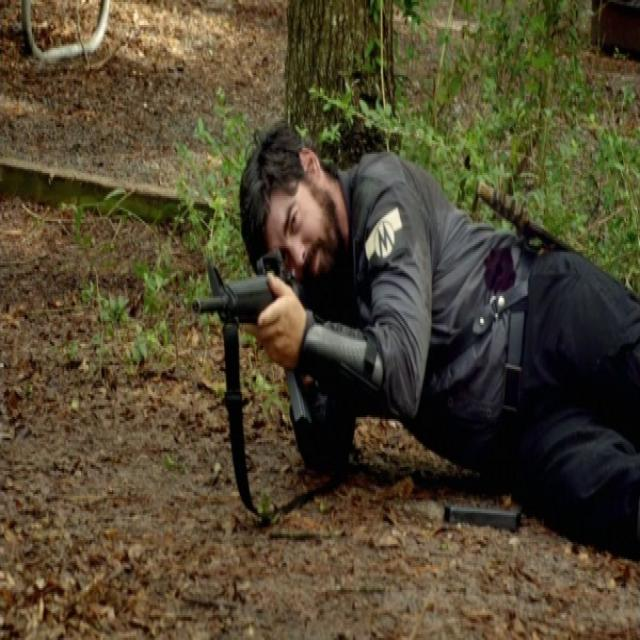rifle: (194, 249, 316, 439)
